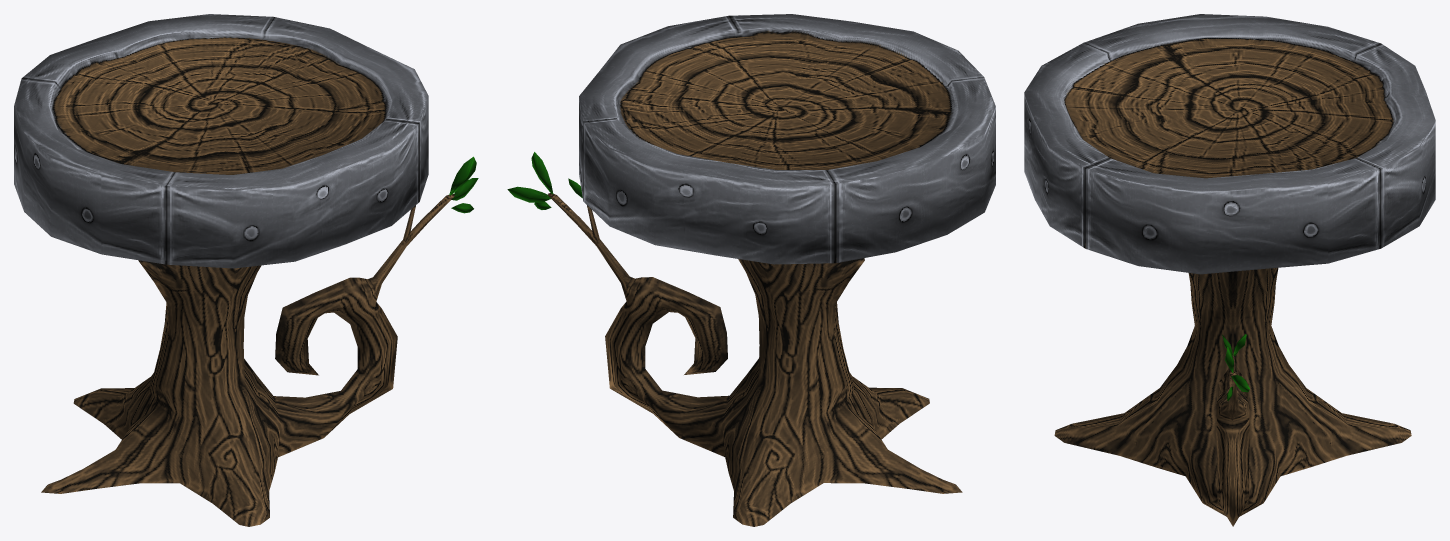
Rendered from table3.glb.
3 views of the same model, side by side, from view 1: azimuth 30°, elevation 25°; view 2: azimuth 150°, elevation 25°; view 3: azimuth 270°, elevation 25° (orthographic).
Parts seen in each view (by area): view 1: node_id68; view 2: node_id68; view 3: node_id68.
Boxes of the visible parts, x1,y1,x2,y2 form: node_id68: (14, 14, 478, 526); node_id68: (507, 14, 995, 526); node_id68: (1024, 14, 1435, 526).
Bounding box in the file's own units: 0.512 × 0.3763 × 0.3966.
1 material, 1 textured.
